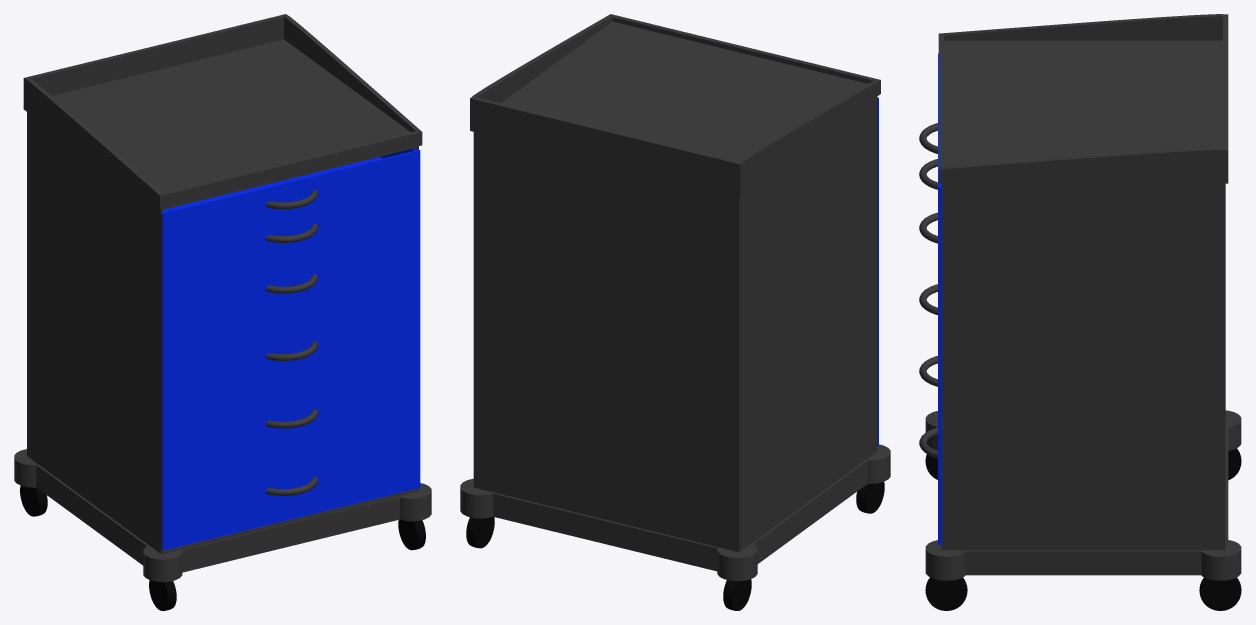
The model's file is Anethesia Cart 02.FBX.
3 renders of one model, left to right at view 1: azimuth 30°, elevation 25°; view 2: azimuth 150°, elevation 25°; view 3: azimuth 270°, elevation 25°, orthographic. The views are drawn at different scales.
Parts seen in each view (by area): view 1: DrawerContainer, TopWorkspace, DrawerB01, DrawerB03, DrawerB04, DrawerB02, BottomSupport, DrawerS01, DrawerS02, Wheel02, Wheel03, Wheel01; view 2: DrawerContainer, TopWorkspace, BottomSupport, Wheel04, Wheel01, Wheel02; view 3: DrawerContainer, TopWorkspace, BottomSupport, Wheel03, Wheel04.
Part boxes in pixels (bbox=[...]): DrawerContainer: bbox=[27, 112, 418, 553]; TopWorkspace: bbox=[23, 14, 422, 209]; DrawerB01: bbox=[161, 218, 420, 348]; DrawerB03: bbox=[161, 353, 420, 483]; DrawerB04: bbox=[161, 420, 420, 550]; DrawerB02: bbox=[161, 285, 420, 415]; BottomSupport: bbox=[14, 449, 431, 582]; DrawerS01: bbox=[161, 148, 420, 246]; DrawerS02: bbox=[161, 184, 420, 280]; Wheel02: bbox=[149, 580, 176, 610]; Wheel03: bbox=[398, 519, 425, 550]; Wheel01: bbox=[20, 486, 47, 516]; DrawerContainer: bbox=[473, 97, 877, 552]; TopWorkspace: bbox=[470, 14, 880, 196]; BottomSupport: bbox=[460, 444, 890, 581]; Wheel04: bbox=[466, 517, 494, 548]; Wheel01: bbox=[723, 579, 751, 610]; Wheel02: bbox=[856, 482, 884, 513]; DrawerContainer: bbox=[941, 183, 1225, 550]; TopWorkspace: bbox=[938, 14, 1228, 183]; BottomSupport: bbox=[925, 410, 1241, 580]; Wheel03: bbox=[925, 577, 967, 610]; Wheel04: bbox=[1199, 577, 1241, 610].
Size of the model in its own units: 66 by 96.96 by 61.14.
